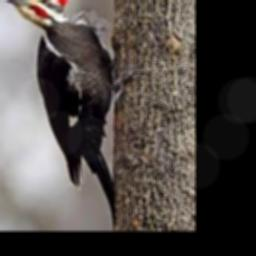Woodpecker: (2, 0, 144, 229)
